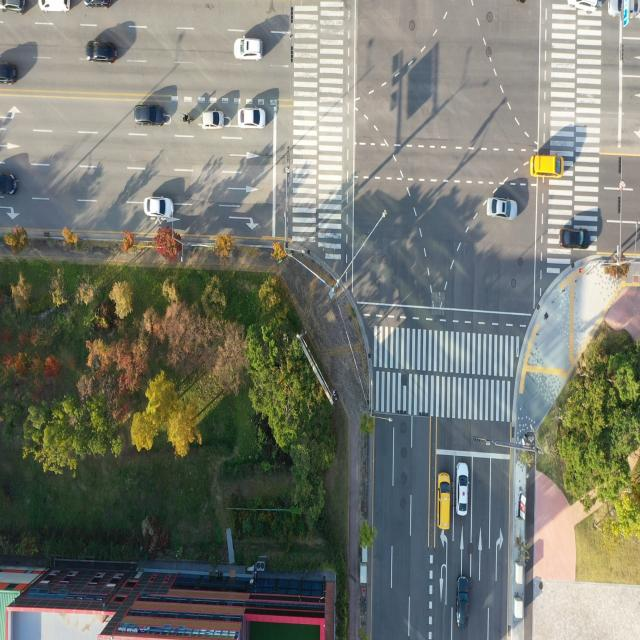car: (530, 152, 564, 181), (558, 224, 590, 250), (133, 103, 166, 128), (438, 472, 452, 530), (455, 576, 470, 630), (457, 464, 471, 520), (234, 36, 264, 61), (486, 196, 518, 219), (88, 39, 117, 64), (236, 107, 266, 129), (144, 196, 173, 218), (606, 0, 638, 17), (201, 108, 224, 131), (568, 0, 599, 17), (38, 0, 72, 14), (0, 61, 18, 86), (0, 0, 27, 16), (0, 173, 17, 198), (83, 0, 113, 10)
